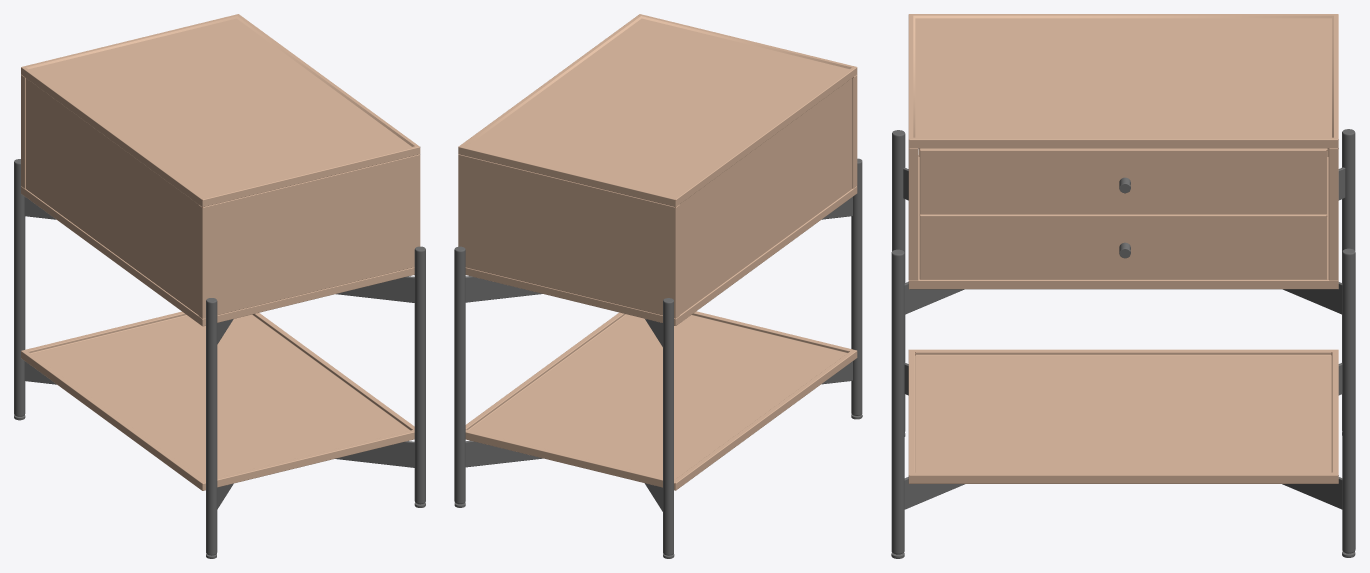
Rendered from mesa-de-cabeceira-alvarinho.glb.
3 renders of one model, left to right at view 1: azimuth 30°, elevation 25°; view 2: azimuth 150°, elevation 25°; view 3: azimuth 270°, elevation 25°, orthographic. The views are drawn at different scales.
Bounding box in the file's own units: 0.4775 × 0.7 × 0.7012.
